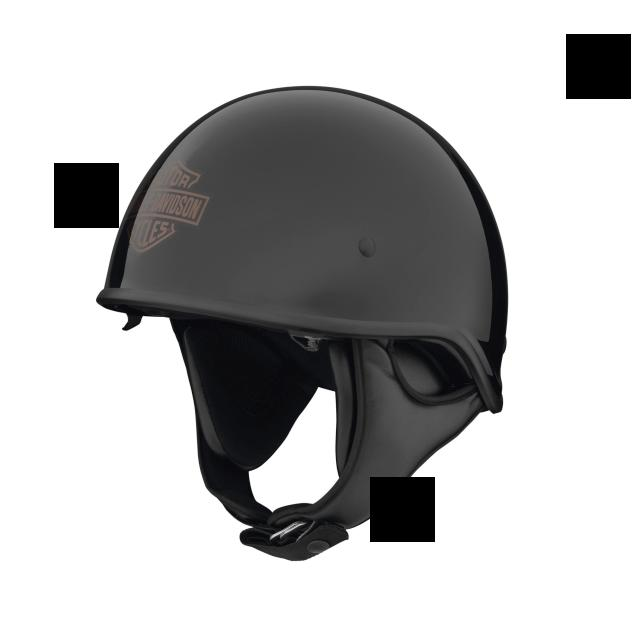Helmet: (98, 87, 508, 560)
